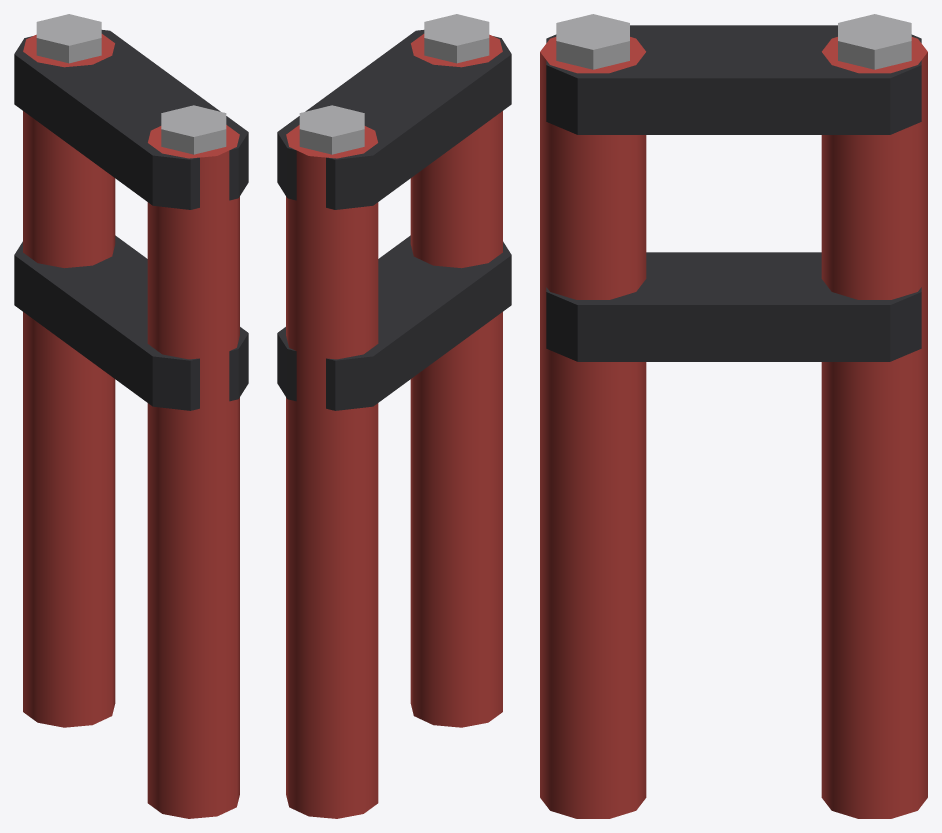
File: enduro_usd_upper_lod1.glb
3 views of the same model, side by side, from view 1: azimuth 30°, elevation 25°; view 2: azimuth 150°, elevation 25°; view 3: azimuth 270°, elevation 25° (orthographic). The views are drawn at different scales.
Parts seen in each view (by area): view 1: enduro_usd_upper_lod1; view 2: enduro_usd_upper_lod1; view 3: enduro_usd_upper_lod1.
Part boxes in pixels (x1,y1,x2,y2): enduro_usd_upper_lod1: (14, 14, 248, 818); enduro_usd_upper_lod1: (277, 14, 511, 818); enduro_usd_upper_lod1: (540, 14, 927, 818).
Size of the model in its own units: 0.08 by 0.54 by 0.248.
